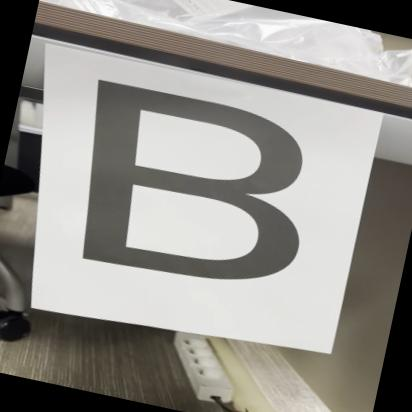seat: (29, 65, 346, 316)
